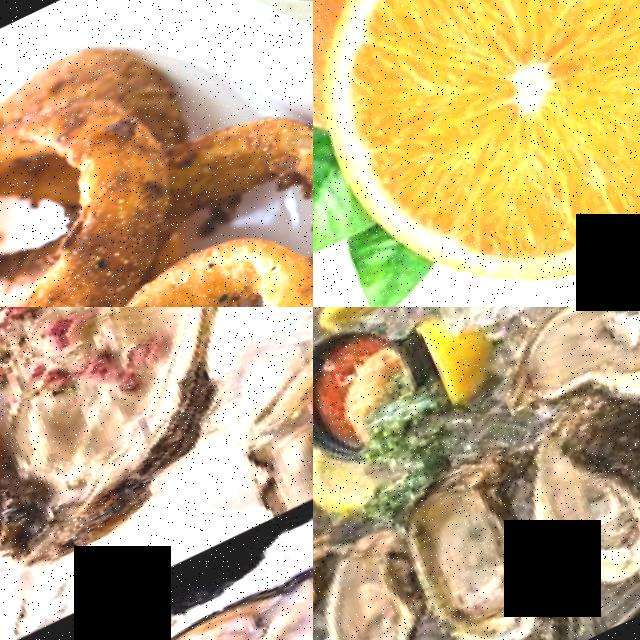orange: (313, 0, 640, 307)
oysters: (0, 307, 301, 592), (0, 475, 313, 640), (380, 442, 594, 640), (498, 389, 640, 605), (489, 307, 640, 450), (313, 529, 469, 640)
